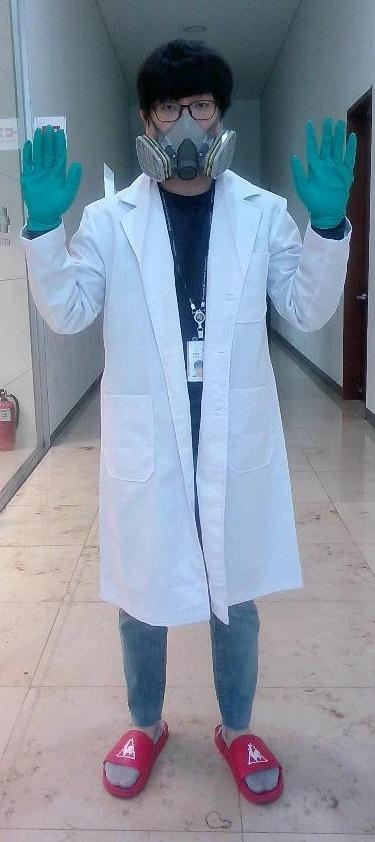lab_coat: (85, 197, 290, 610)
